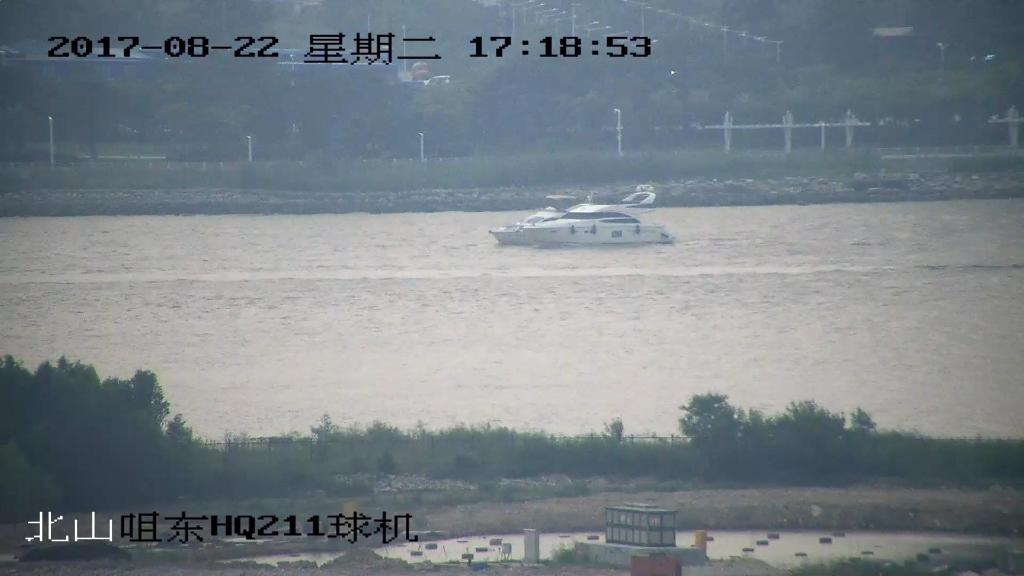PassengerShip: (479, 176, 687, 254)
